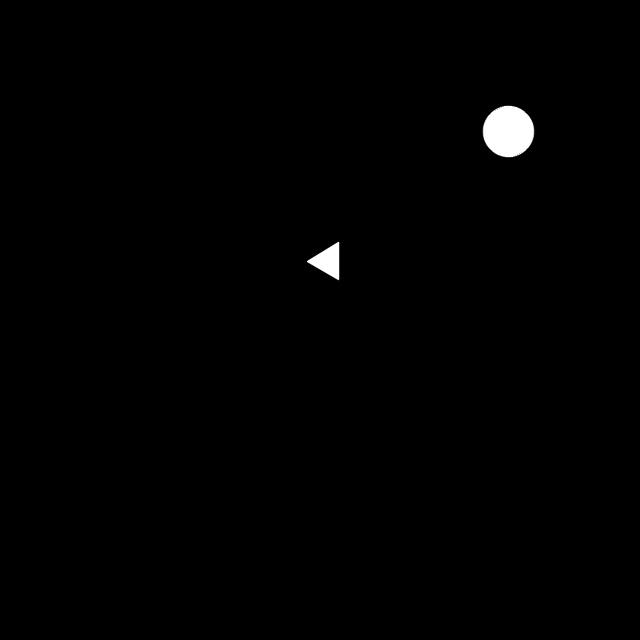Circle: (474, 99, 539, 169)
Triangle: (298, 236, 346, 287)
